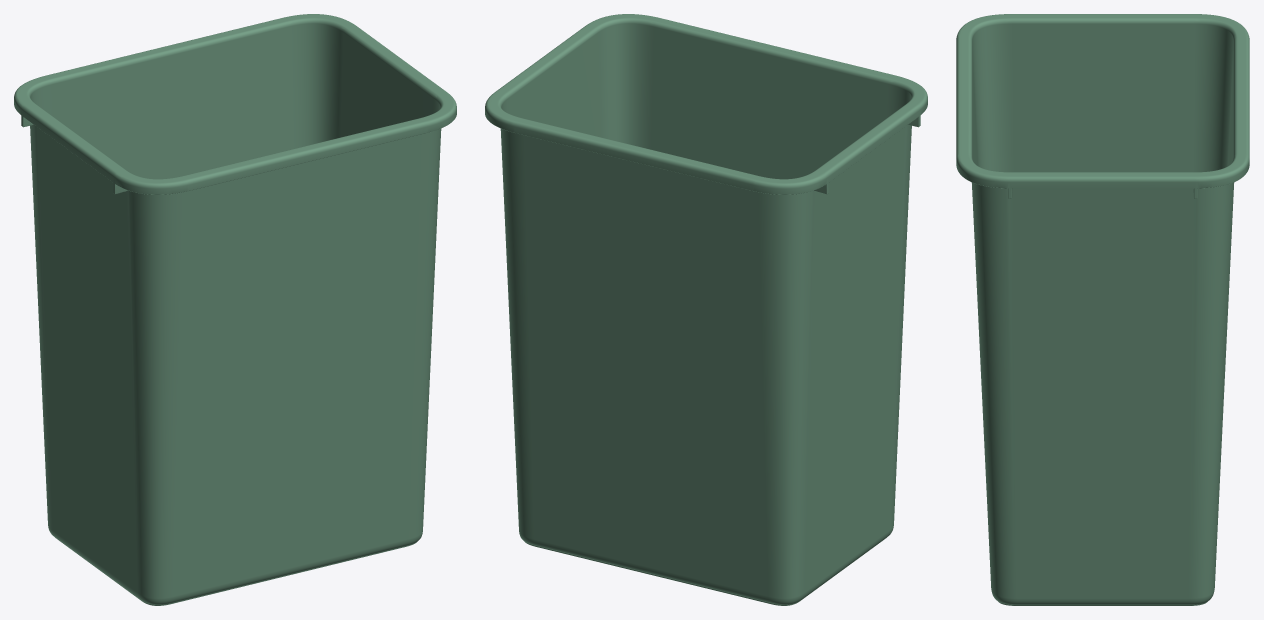
Rendered from container_recycle_green_a03.glb.
3 views of the same model, side by side, from view 1: azimuth 30°, elevation 25°; view 2: azimuth 150°, elevation 25°; view 3: azimuth 270°, elevation 25° (orthographic).
Bounding box in the file's own units: 0.4 × 0.5 × 0.3.
